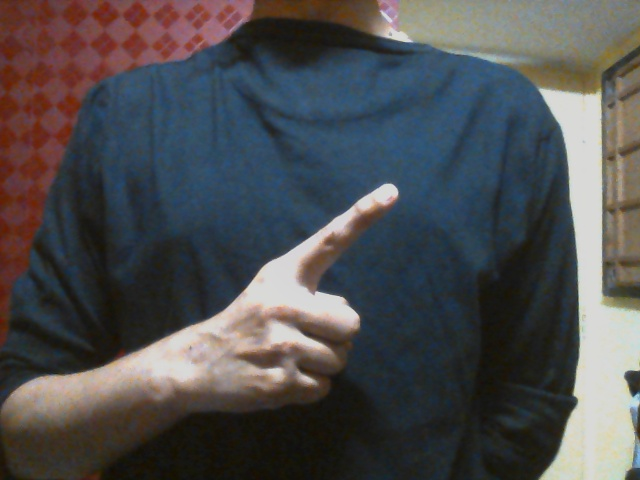I: (199, 181, 400, 416)
